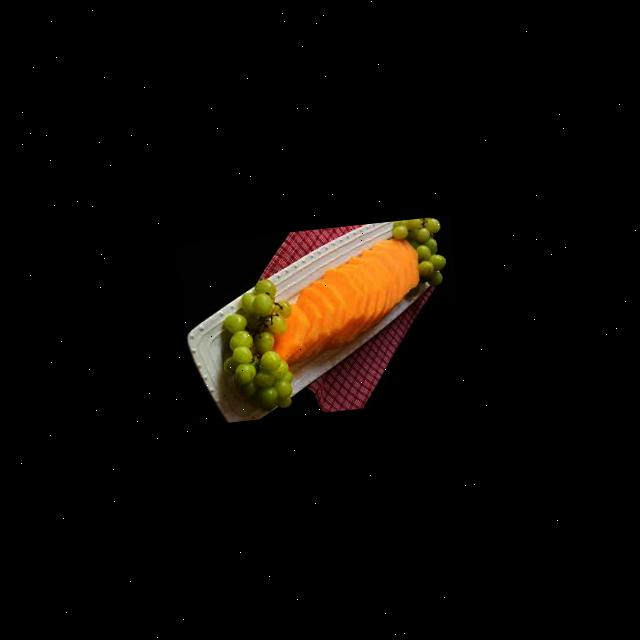grape: (214, 276, 300, 414), (390, 217, 448, 290)
